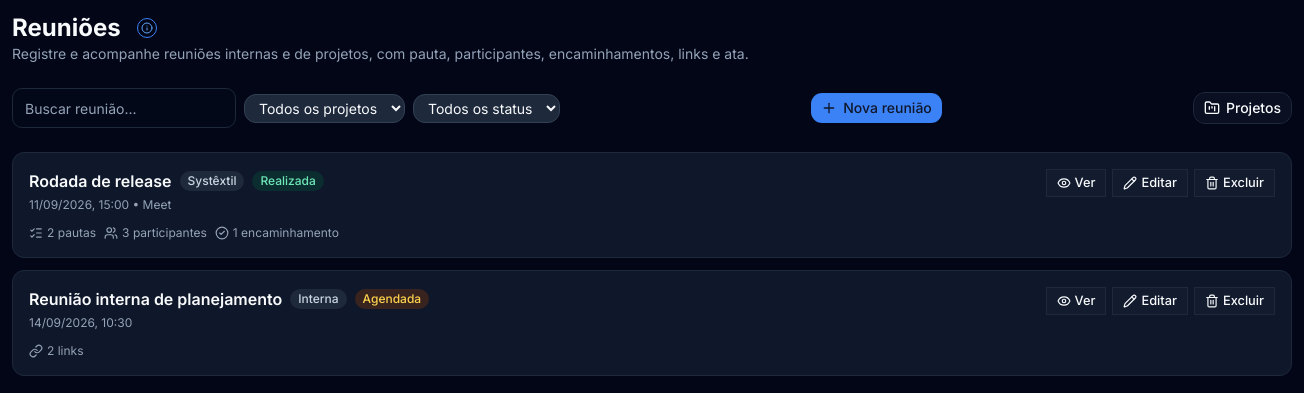
Test: ReunioesPage › filtra a lista pelo texto digitado
Expected: the text "Rodada de release" is shown, 29,169 -> 172,193
In the field labelled "Buscar reunião": (124, 108) 12,88 -> 236,128, type "planejamento"
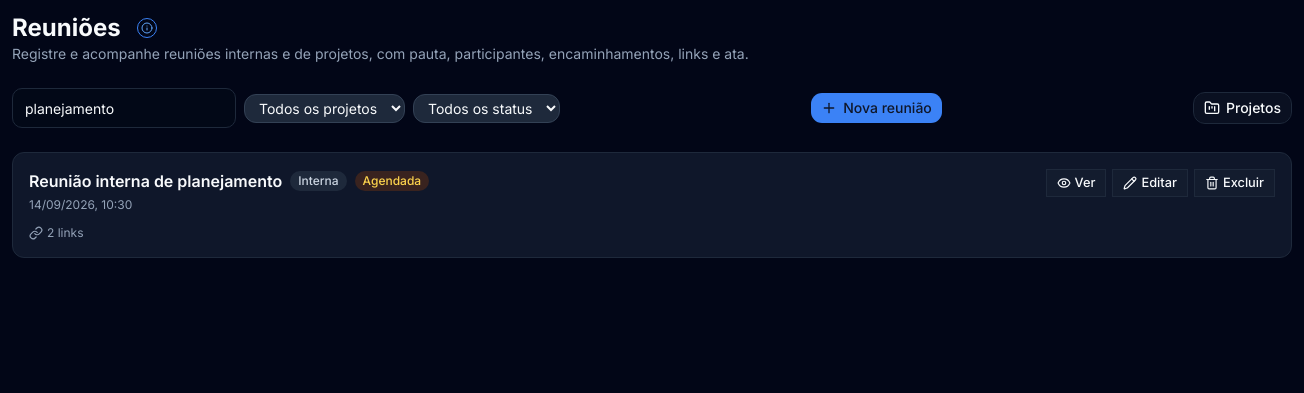
Expected: the text "Reunião interna de planejamento" is shown, 29,169 -> 282,193
Expected: the text "Rodada de release" is gone
